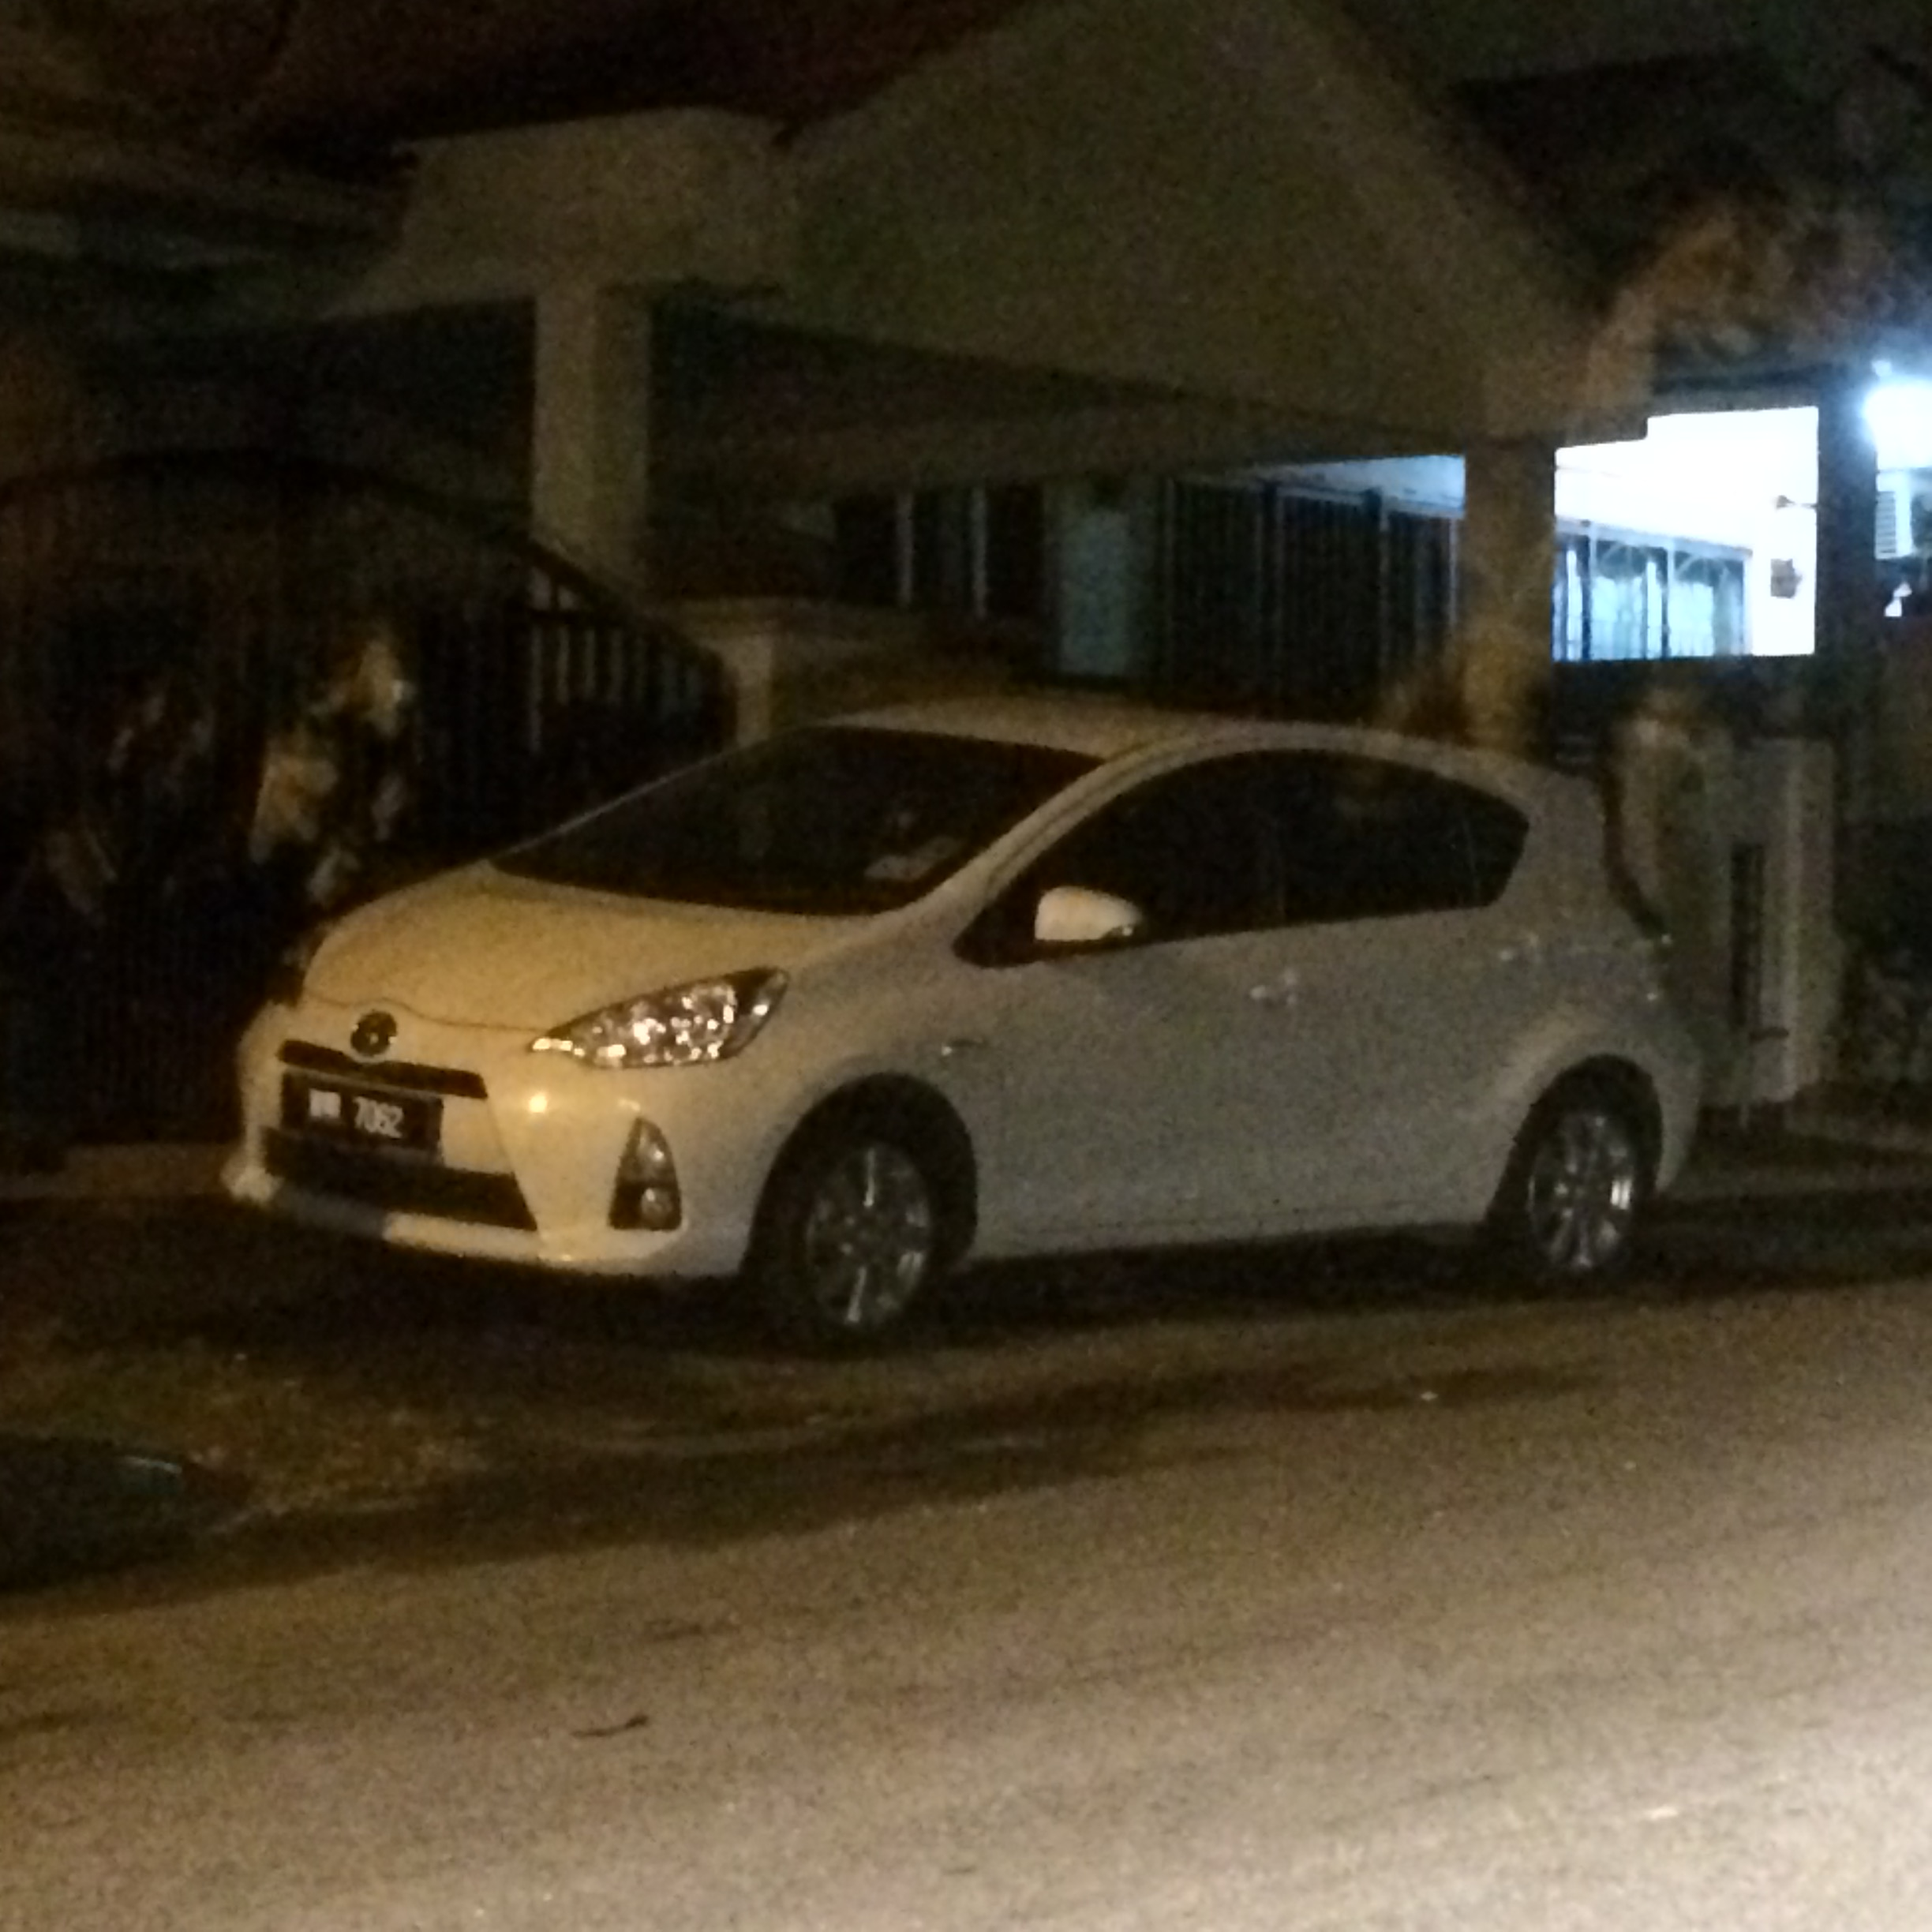car: (186, 658, 1720, 1376)
